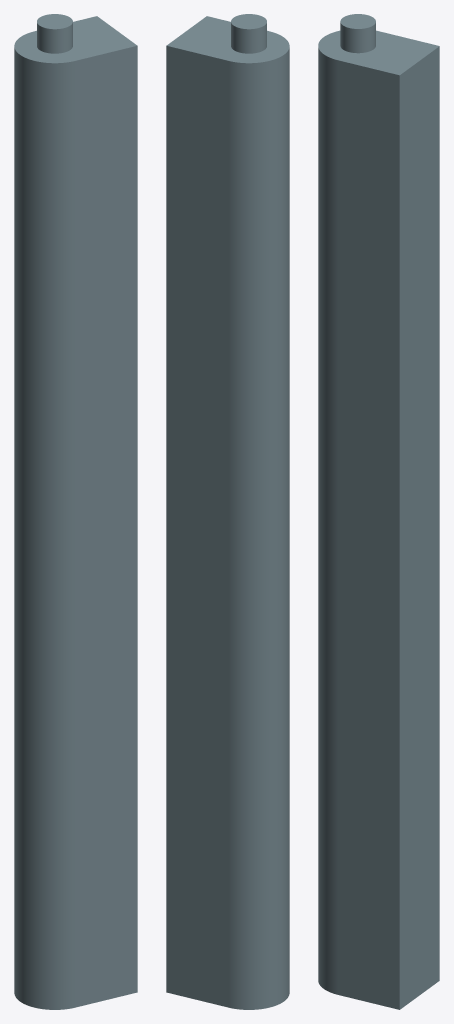
The model's file is esp2023_p01_heel_post.glb.
The picture shows the model from 3 angles, left to right: view 1: azimuth 30°, elevation 25°; view 2: azimuth 150°, elevation 25°; view 3: azimuth 330°, elevation 25°; orthographic projection.
Visible parts, largest first — view 1: heel post; view 2: heel post; view 3: heel post.
Boxes of the visible parts, x1,y1,x2,y2 form: heel post: (14, 14, 137, 1009); heel post: (166, 14, 289, 1009); heel post: (318, 14, 439, 1009).
Bounding box in the file's own units: 625 × 5950 × 450.
